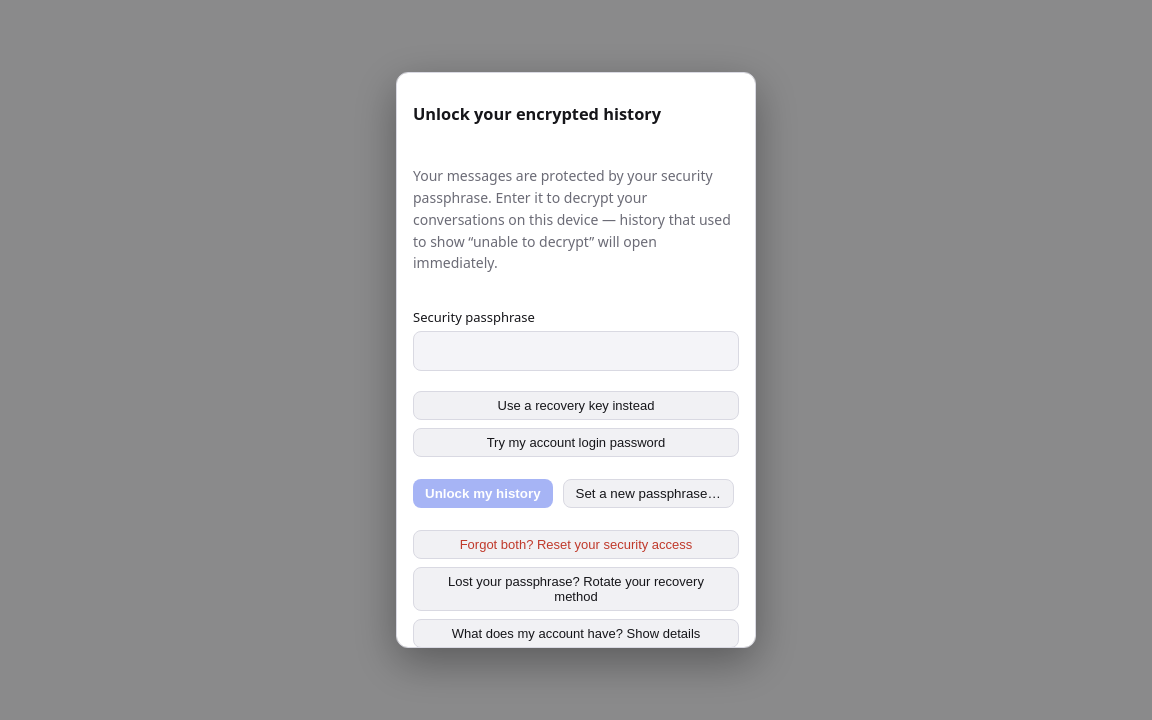
Scenario: W23-A try-my-login-password affordance on the unlock screen › reveals a masked current-password field and unlocks through the SAME core passphrase path
Later steps or results of the test are not shown.
Expected: the heading "Unlock your encrypted history" is shown, [413, 103, 661, 125]
Click the button with test id "try-login-password".
click(576, 443)  # box [413, 428, 739, 457]
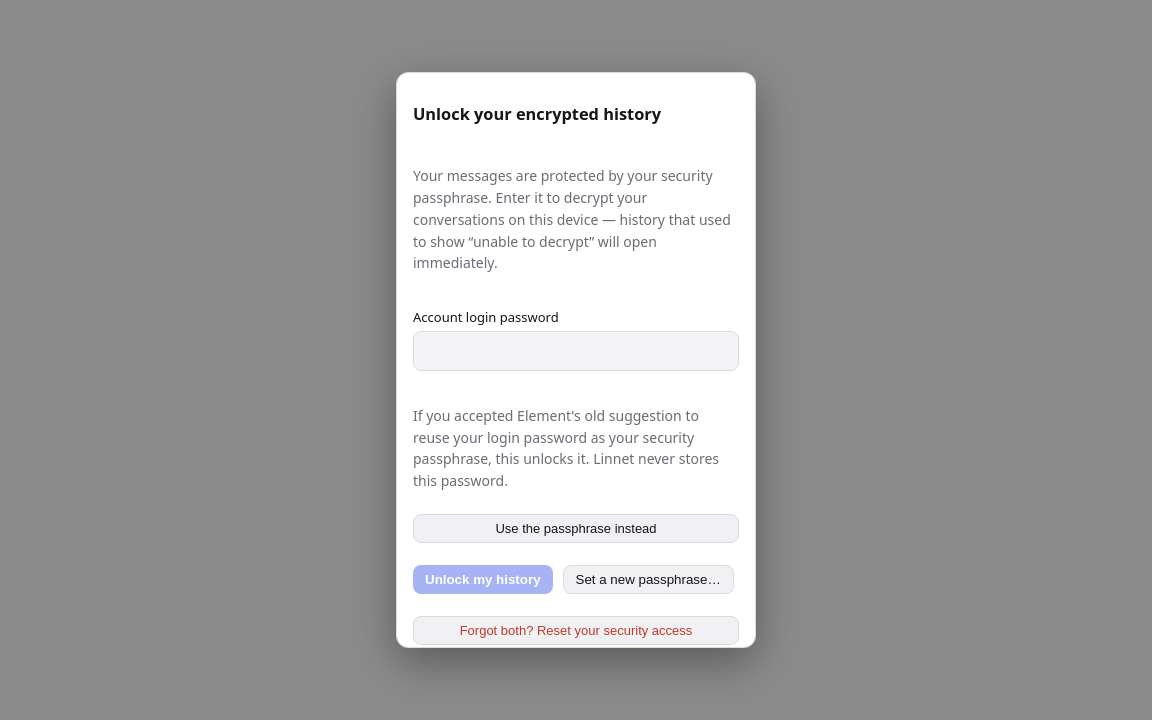
Now the dialog with class "gate-dialog" shows "reuse your login password as your security passphrase", box [413, 406, 719, 490]
